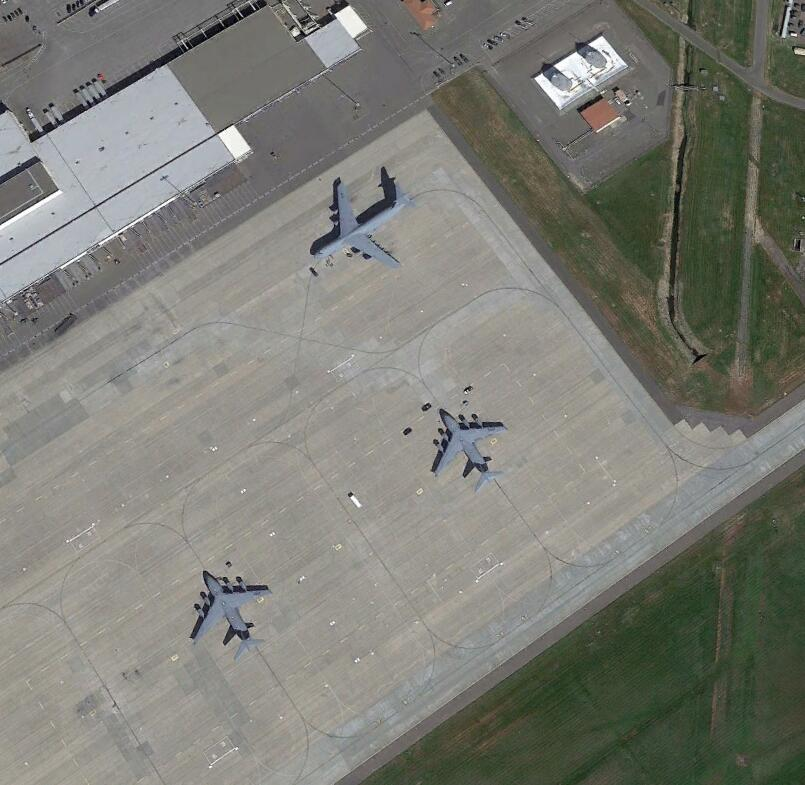A3: (188, 569, 274, 658), (430, 407, 508, 489)
A4: (309, 180, 414, 270)
